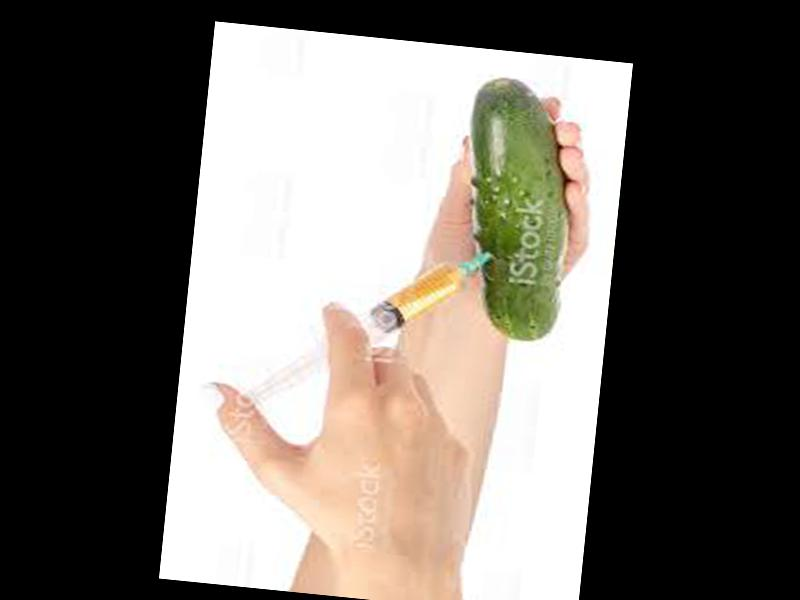Cucumber: (451, 73, 576, 343)
